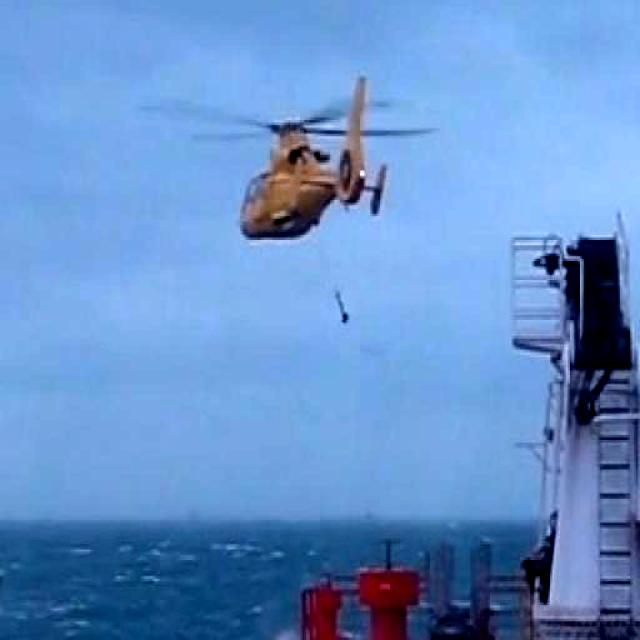drone: (196, 84, 415, 260)
